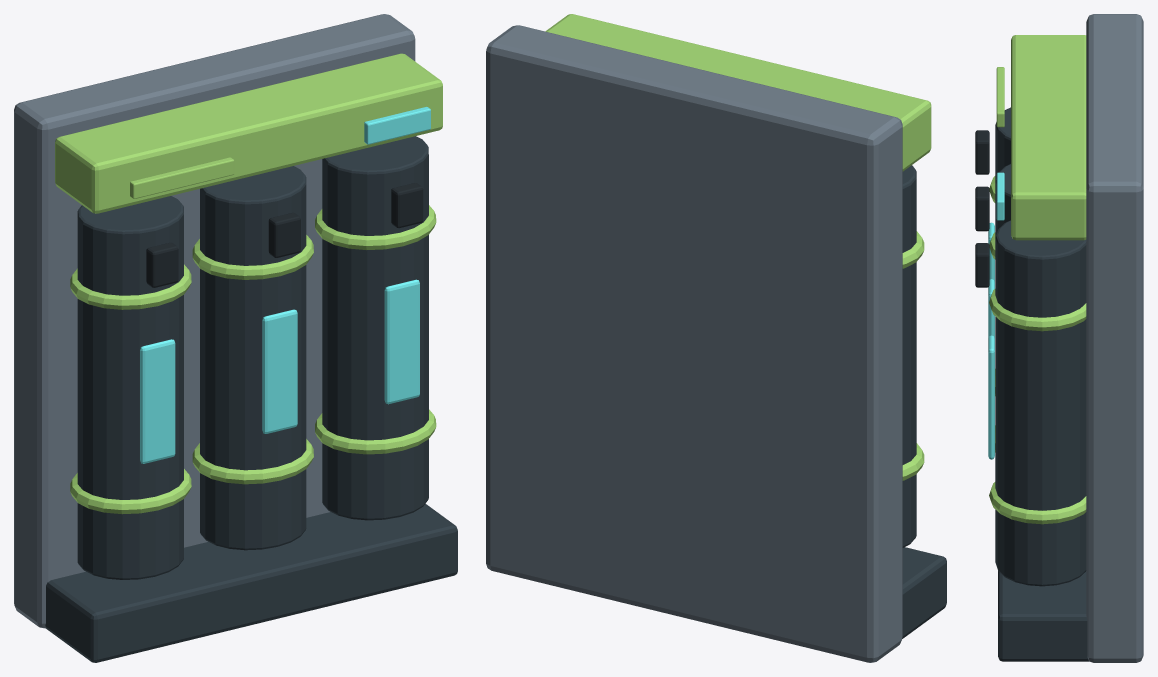
File: LPK_LifeSupport_ScrubberHero.fbx
The picture shows the model from 3 angles, left to right: view 1: azimuth 30°, elevation 25°; view 2: azimuth 150°, elevation 25°; view 3: azimuth 270°, elevation 25°; orthographic projection. The views are drawn at different scales.
Parts seen in each view (by area): view 1: Backplate, Base, Canister_0, Canister_1, Canister_2, Manifold, FilterWindow_1, FilterWindow_0, FilterWindow_2, ServiceStripe, ClampUpper_0, ClampUpper_1 (+8 smaller); view 2: Backplate, Manifold, Canister_0, Base; view 3: Backplate, Canister_2, Manifold, Base, ClampLower_2, ClampUpper_2, FilterWindow_2, Canister_0, Latch_1, Latch_0, Latch_2, Canister_1 (+3 smaller).
Part boxes in pixels (bbox=[...]): Backplate: bbox=[14, 14, 415, 628]; Base: bbox=[45, 503, 457, 662]; Canister_0: bbox=[77, 196, 183, 579]; Canister_1: bbox=[200, 166, 306, 550]; Canister_2: bbox=[322, 136, 428, 520]; Manifold: bbox=[55, 53, 442, 213]; FilterWindow_1: bbox=[262, 309, 297, 433]; FilterWindow_0: bbox=[140, 339, 175, 463]; FilterWindow_2: bbox=[384, 279, 419, 404]; ServiceStripe: bbox=[130, 157, 234, 198]; ClampUpper_0: bbox=[70, 264, 191, 309]; ClampUpper_1: bbox=[192, 235, 313, 279]; Backplate: bbox=[486, 25, 902, 662]; Manifold: bbox=[545, 14, 931, 171]; Canister_0: bbox=[902, 165, 916, 547]; Base: bbox=[902, 547, 946, 638]; Backplate: bbox=[1086, 14, 1143, 662]; Canister_2: bbox=[995, 220, 1086, 586]; Manifold: bbox=[1011, 35, 1086, 240]; Base: bbox=[998, 571, 1088, 661]; ClampLower_2: bbox=[989, 482, 1086, 524]; ClampUpper_2: bbox=[989, 289, 1086, 331]; FilterWindow_2: bbox=[988, 335, 994, 459]; Canister_0: bbox=[995, 107, 1010, 180]; Latch_1: bbox=[975, 186, 989, 231]; Latch_0: bbox=[975, 130, 989, 174]; Latch_2: bbox=[975, 243, 989, 287]; Canister_1: bbox=[995, 164, 1010, 237].
Size of the model in its own units: 142 by 183 by 58.
